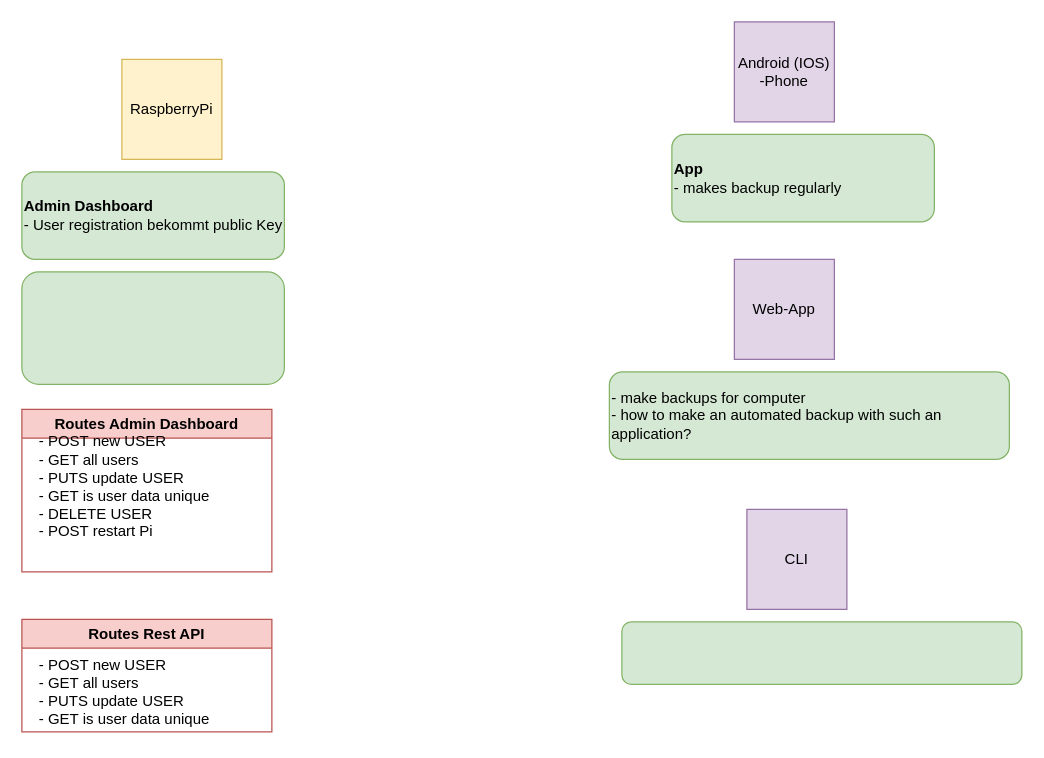
Image size: 1044x758. Some labels were removed from this diagram. Each missing label, with the centre of its shape:
"- make backups for computer" goes at point 821,652.
"Rest API - POST data - Authentication public key" goes at point 152,327.
